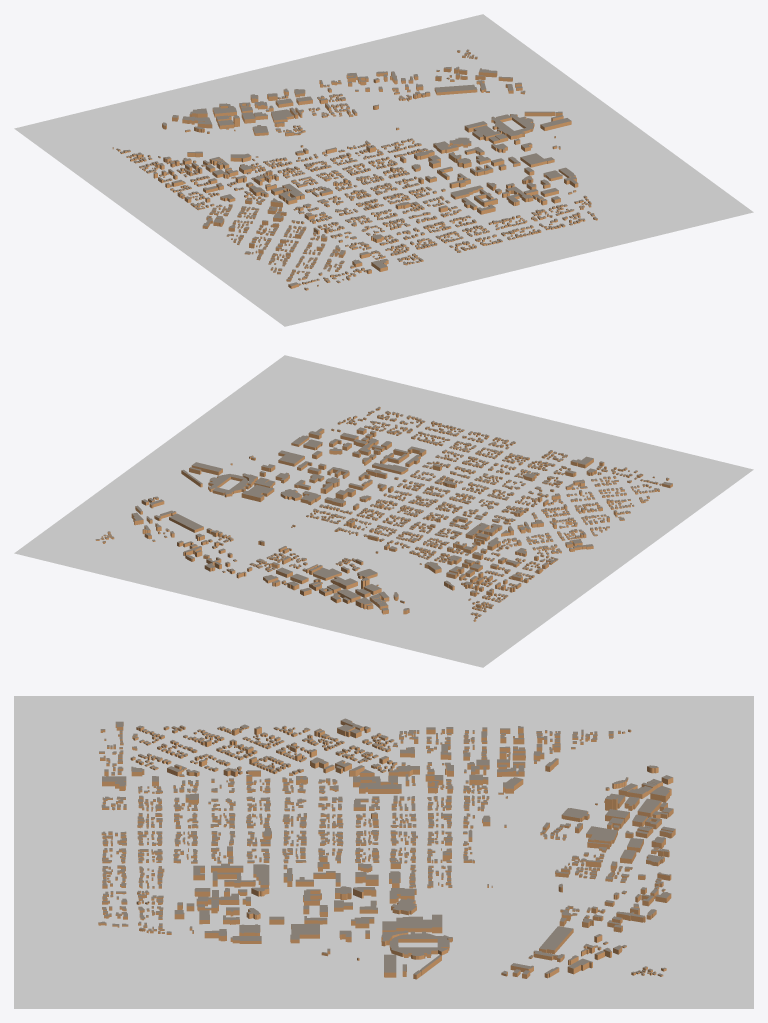
Rendered from Missoula2.fbx.
The picture shows the model from 3 angles, top to bottom: view 1: azimuth 30°, elevation 25°; view 2: azimuth 150°, elevation 25°; view 3: azimuth 270°, elevation 25°; orthographic projection. The views are drawn at different scales.
Parts seen in each view (by area): view 1: Plane, map_9.osm_buildings; view 2: Plane, map_9.osm_buildings; view 3: Plane, map_9.osm_buildings.
Boxes of the visible parts, x1,y1,x2,y2 form: Plane: [14, 14, 753, 326]; map_9.osm_buildings: [112, 49, 597, 290]; Plane: [14, 355, 753, 667]; map_9.osm_buildings: [95, 406, 672, 621]; Plane: [14, 696, 753, 1008]; map_9.osm_buildings: [98, 718, 675, 979].
Size of the model in its own units: 3144 by 54.61 by 3144.
